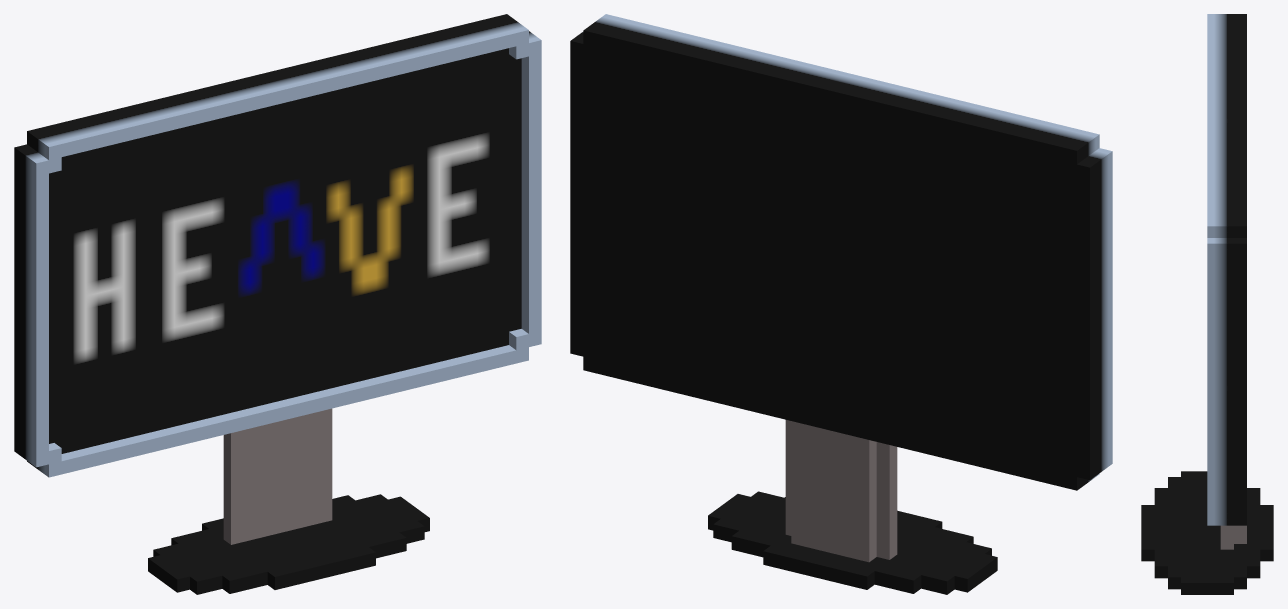
The model's file is MediumObject_Monitor.fbx.
3 views of the same model, side by side, from view 1: azimuth 30°, elevation 25°; view 2: azimuth 150°, elevation 25°; view 3: azimuth 270°, elevation 25° (orthographic). The views are drawn at different scales.
Visible parts, largest first — view 1: Monitor; view 2: Monitor; view 3: Monitor.
Boxes of the visible parts, x1,y1,x2,y2 form: Monitor: (14,14,541,594); Monitor: (570,14,1112,594); Monitor: (1141,14,1273,594).
Size of the model in its own units: 40 by 35 by 10.
